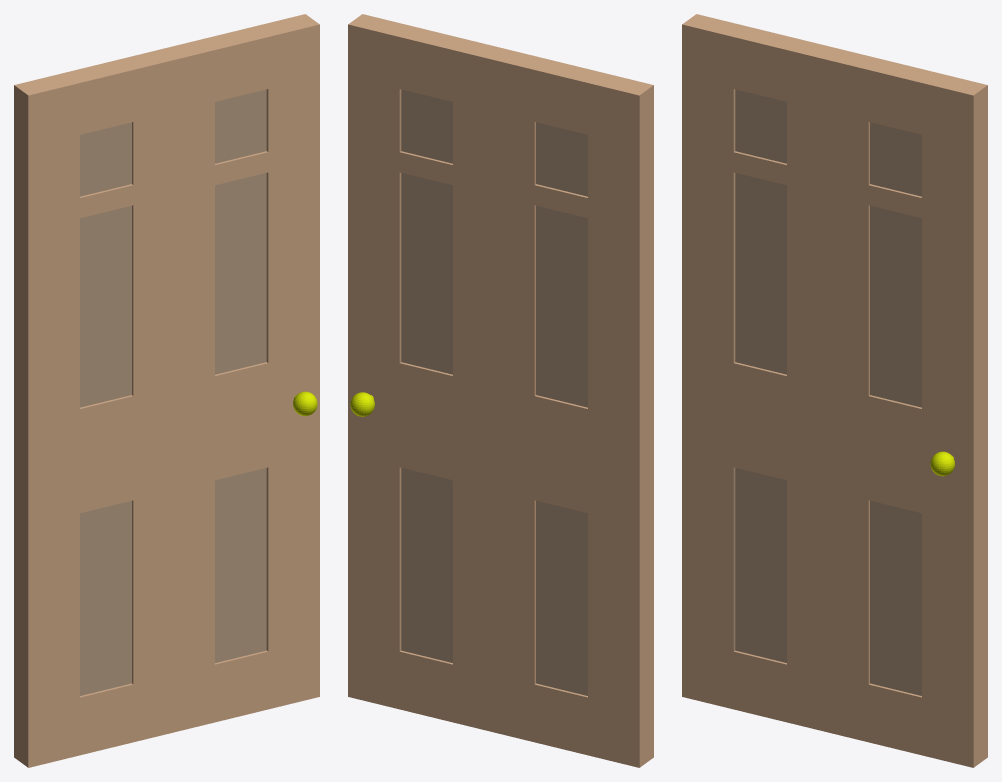
The model's file is Door.fbx.
3 views of the same model, side by side, from view 1: azimuth 30°, elevation 25°; view 2: azimuth 150°, elevation 25°; view 3: azimuth 330°, elevation 25° (orthographic).
Parts seen in each view (by area): view 1: Cube; view 2: Cube; view 3: Cube.
Part boxes in pixels (bbox=[...]): Cube: bbox=[14, 14, 319, 767]; Cube: bbox=[348, 14, 653, 767]; Cube: bbox=[682, 14, 987, 767].
Size of the model in its own units: 227 by 501 by 57.82.
